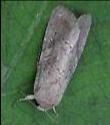army worm adult: (13, 4, 93, 119)
